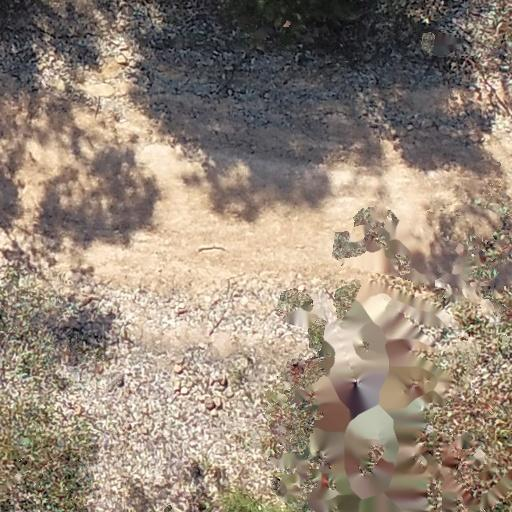stone: (204, 396, 214, 409), (172, 364, 186, 373), (214, 395, 221, 409), (180, 385, 188, 397), (174, 380, 181, 392)
